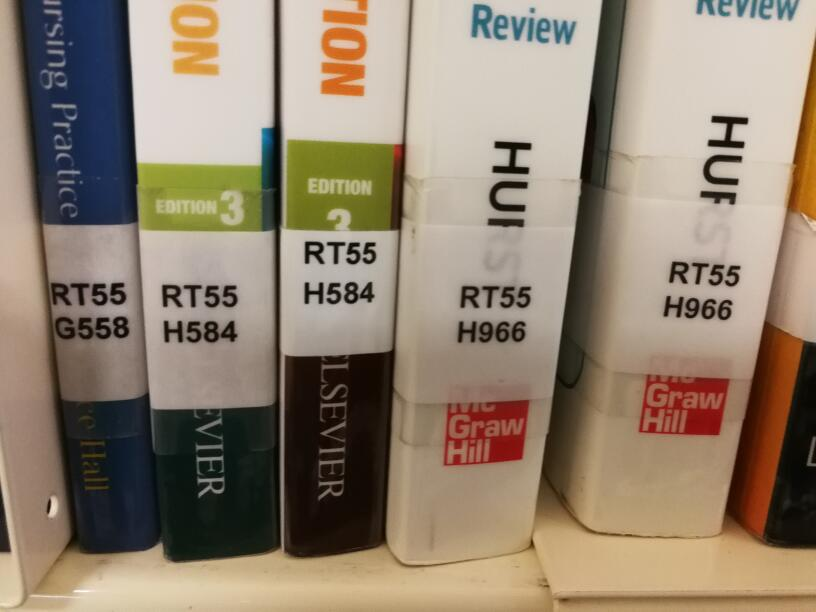booklabel: (158, 280, 241, 346), (300, 238, 379, 307), (45, 279, 132, 341), (661, 258, 742, 321), (454, 282, 534, 344)
